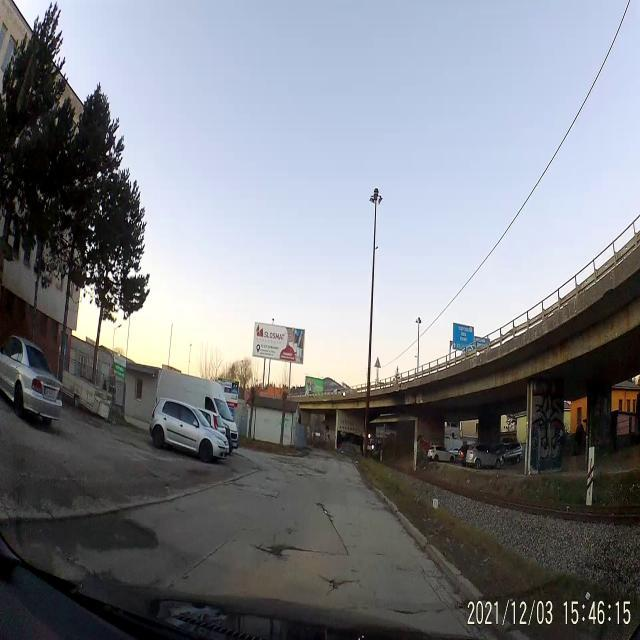Pothole: (253, 535, 304, 564), (324, 572, 354, 597), (316, 498, 335, 524)
